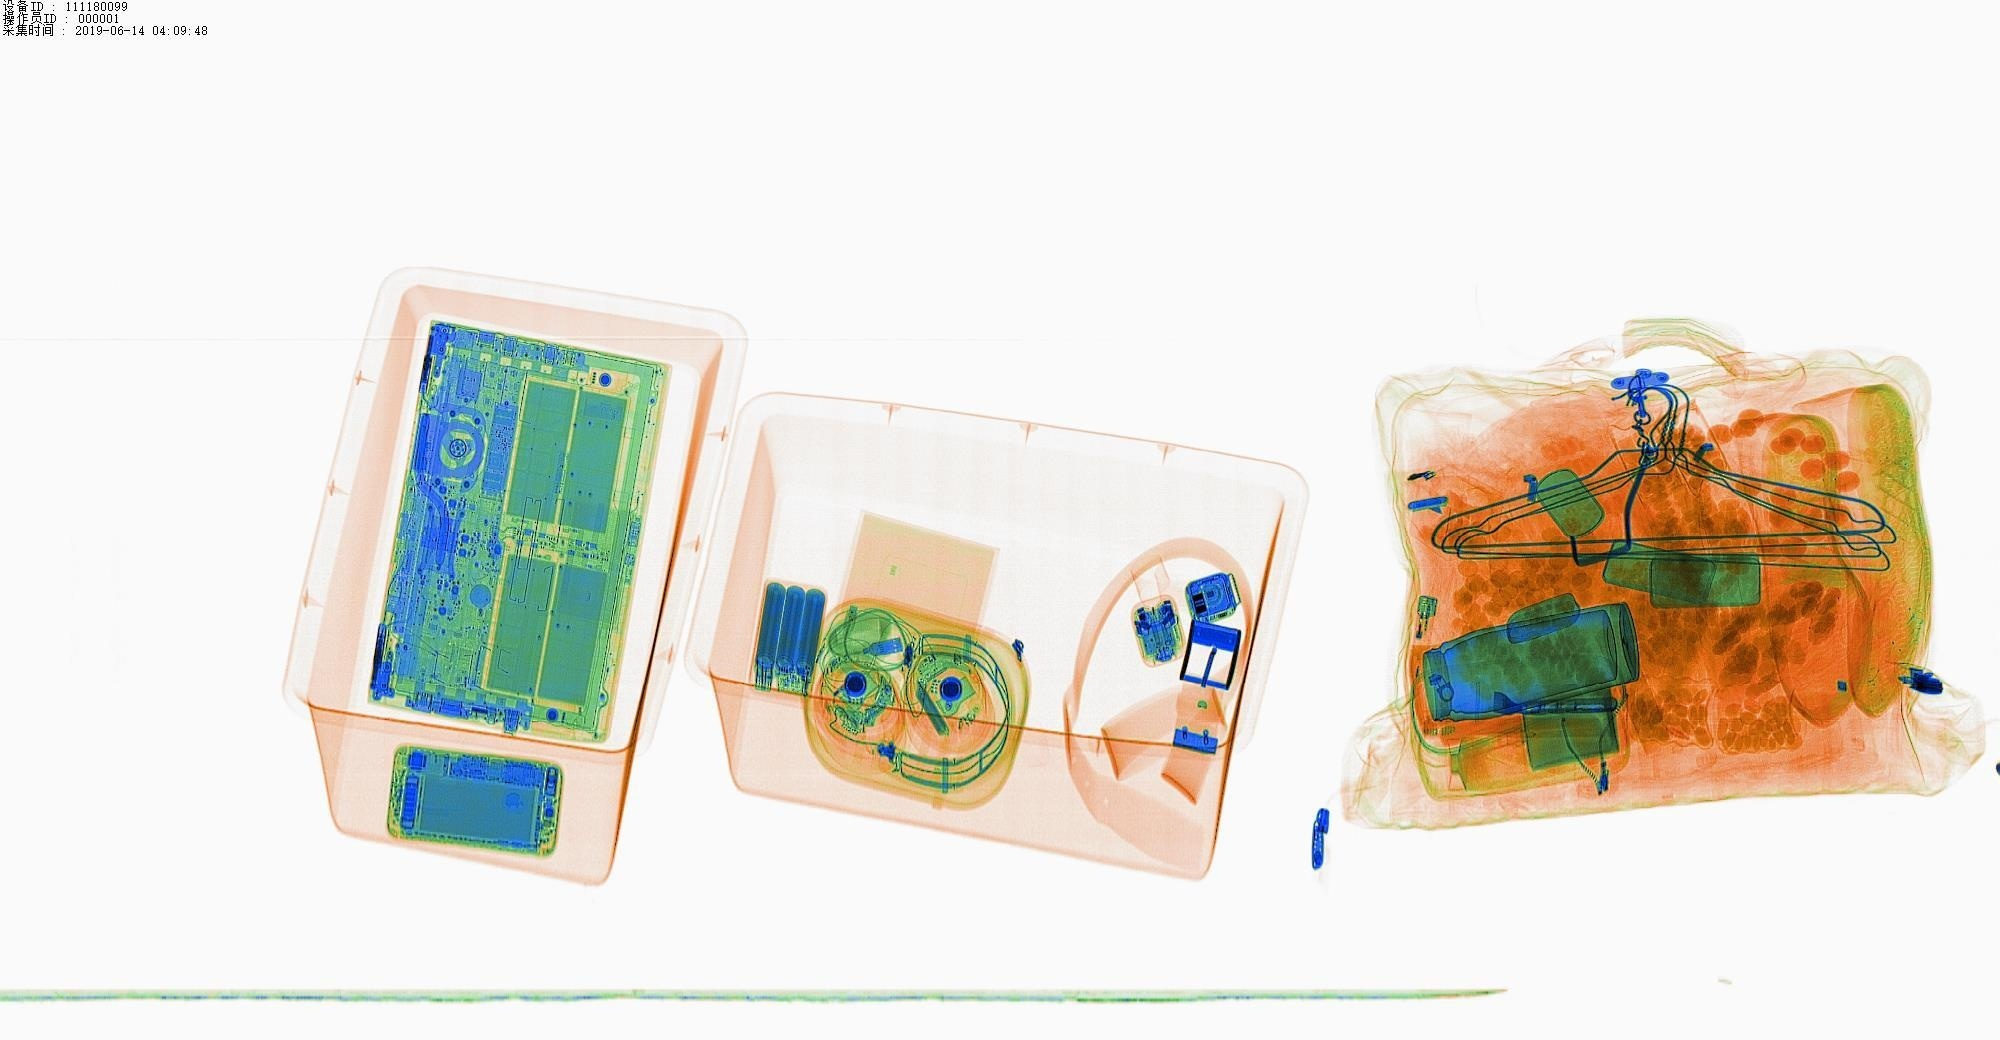NonmetallicFire: (1394, 581, 1446, 707)
